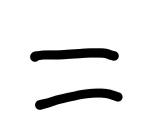eqv: (26, 43, 128, 111)
